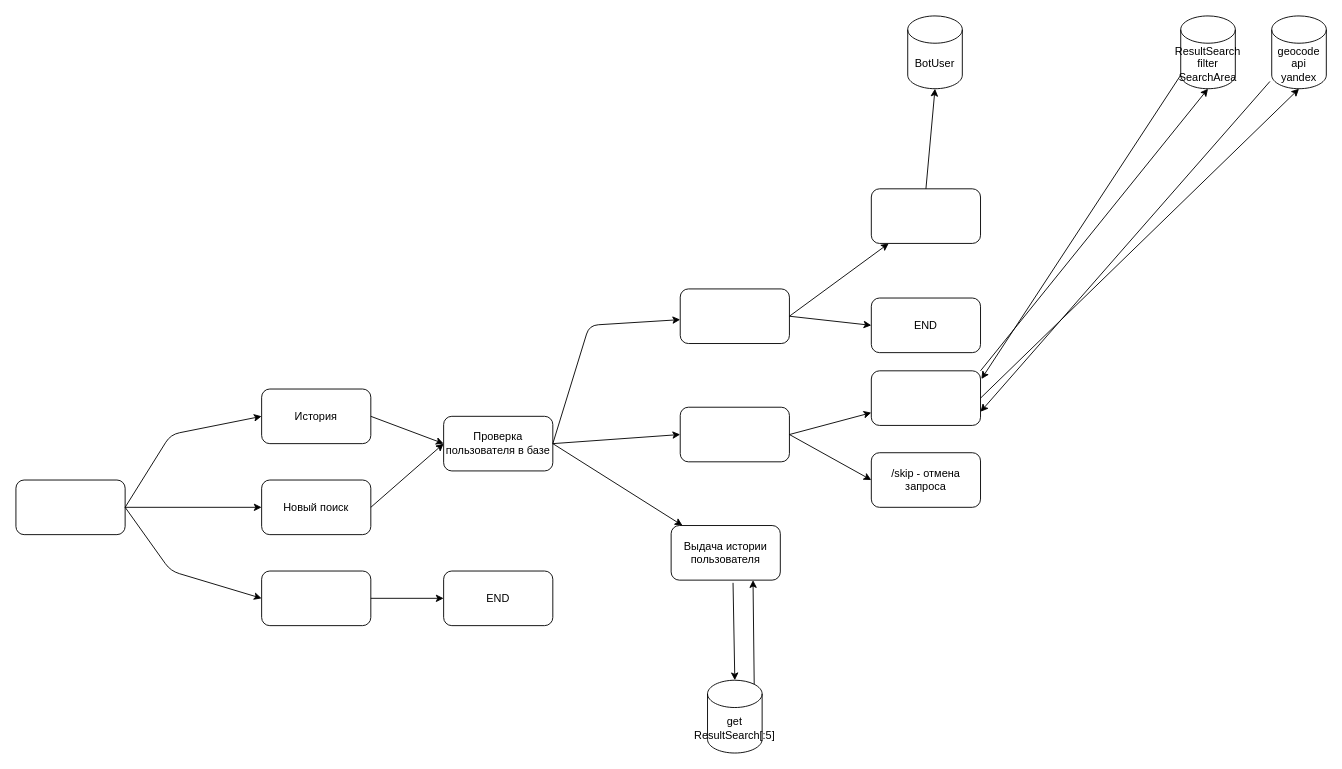
The diagram is 1342 pixels wide and 769 high, and some of its shapes have lost their labels. The shapes that lost their labels are listed below. From the top down, each one's centre as x and y in pixels, then its label:
At point 925,215: "Создание".
At point 734,316: "Предложение пользователю использовать его данные".
At point 925,397: "Создание нового запроса с фильтрацией областей".
At point 734,434: "Ожидание запроса".
At point 70,507: "/start приветсвенное письмо".
At point 316,598: "Завершение".
